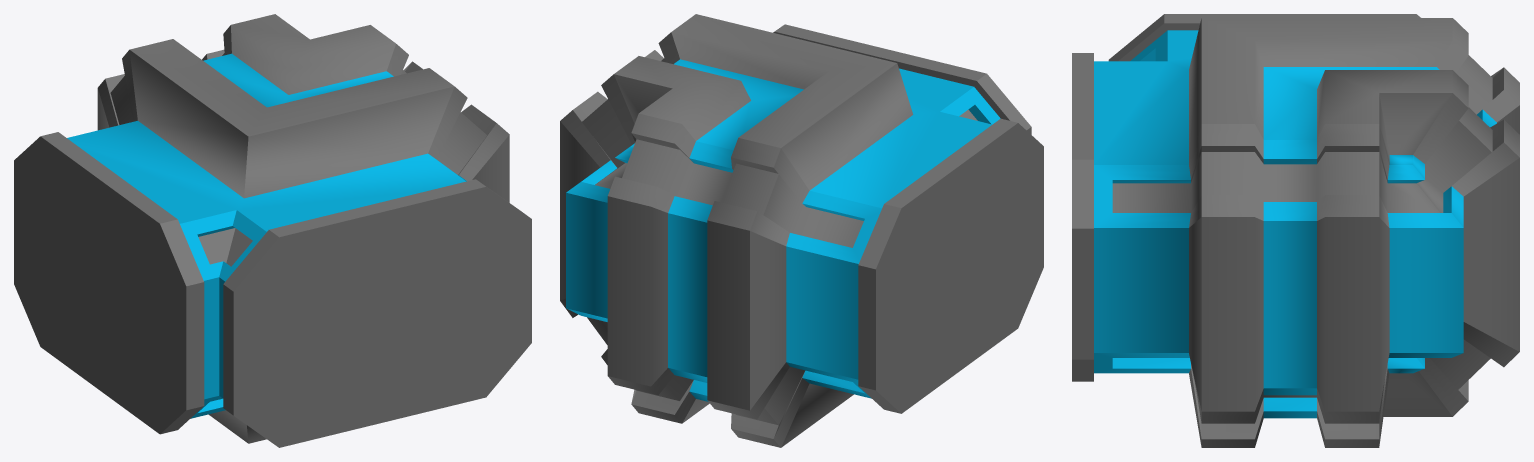
Rendered from _1Ship_PIece4.fbx.
The picture shows the model from 3 angles, left to right: view 1: azimuth 30°, elevation 25°; view 2: azimuth 150°, elevation 25°; view 3: azimuth 270°, elevation 25°; orthographic projection. The views are drawn at different scales.
Visible parts, largest first — view 1: Ship_PIece4; view 2: Ship_PIece4; view 3: Ship_PIece4.
Boxes of the visible parts, x1,y1,x2,y2 form: Ship_PIece4: [14, 14, 531, 447]; Ship_PIece4: [560, 14, 1043, 447]; Ship_PIece4: [1072, 14, 1519, 447].
Bounding box in the file's own units: 298 × 238 × 298.
